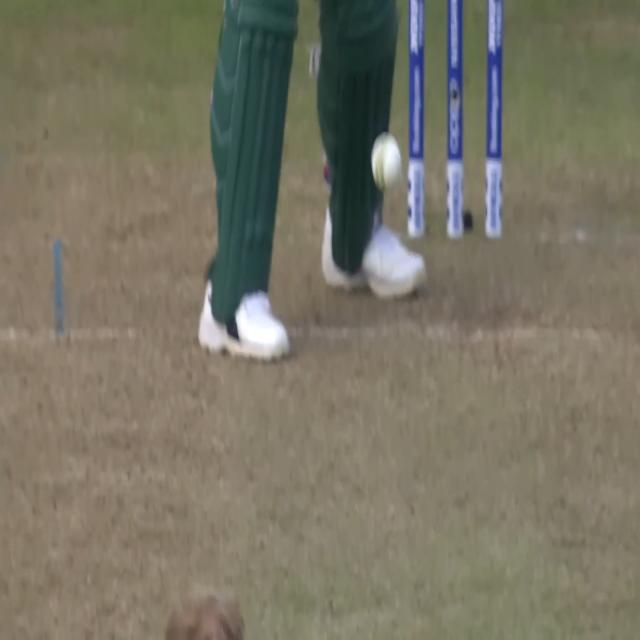ball: (369, 134, 405, 190)
